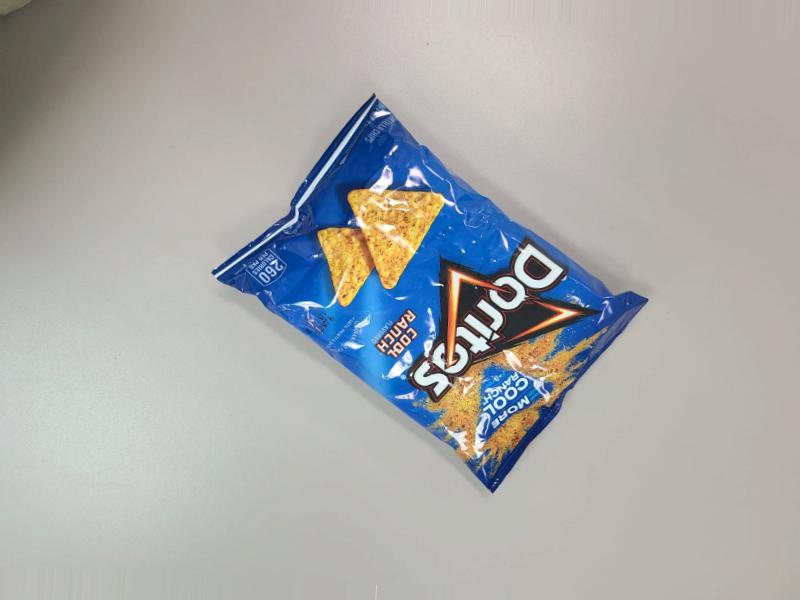doritos: (302, 164, 666, 491)
